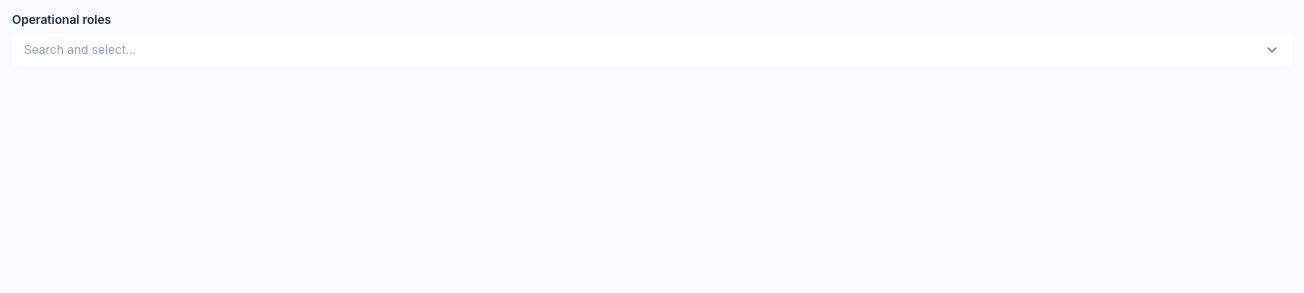
SearchableMultiSelect accessibility and interaction › closes on Escape and restores focus to the disclosure button
This screenshot has width=1304, height=293.
Click the button "Search and select...": (80, 50) [12,34,1292,66]
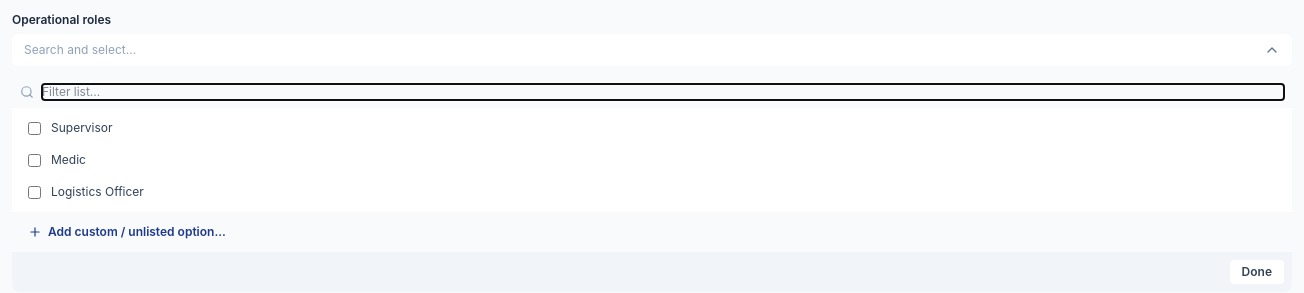
Press Escape in the field with placeholder "Filter list...", box [42,84,1284,100]
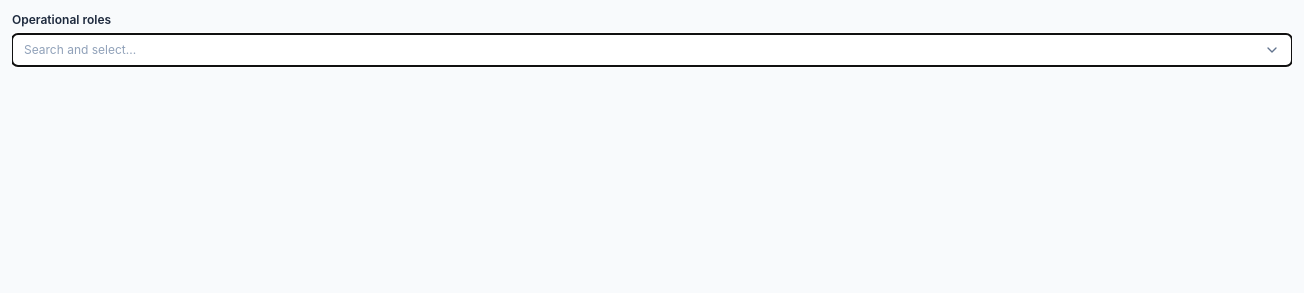
Expected: the button "Search and select..." is collapsed, [12,34,1292,66]
